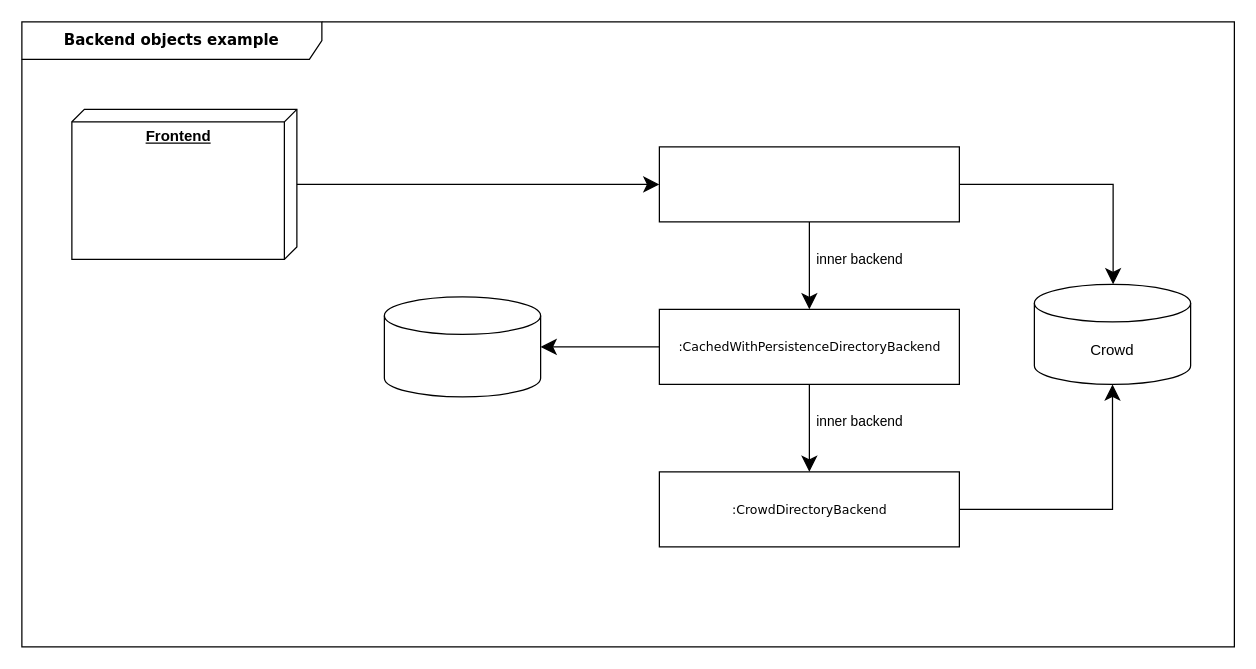
Image size: 1256x669. Some labels were removed from this diagram. Each missing label, with the centre of its shape:
:MirroredCrowdDirectoryBackend: [808,184]
SQL Database: [462,346]
